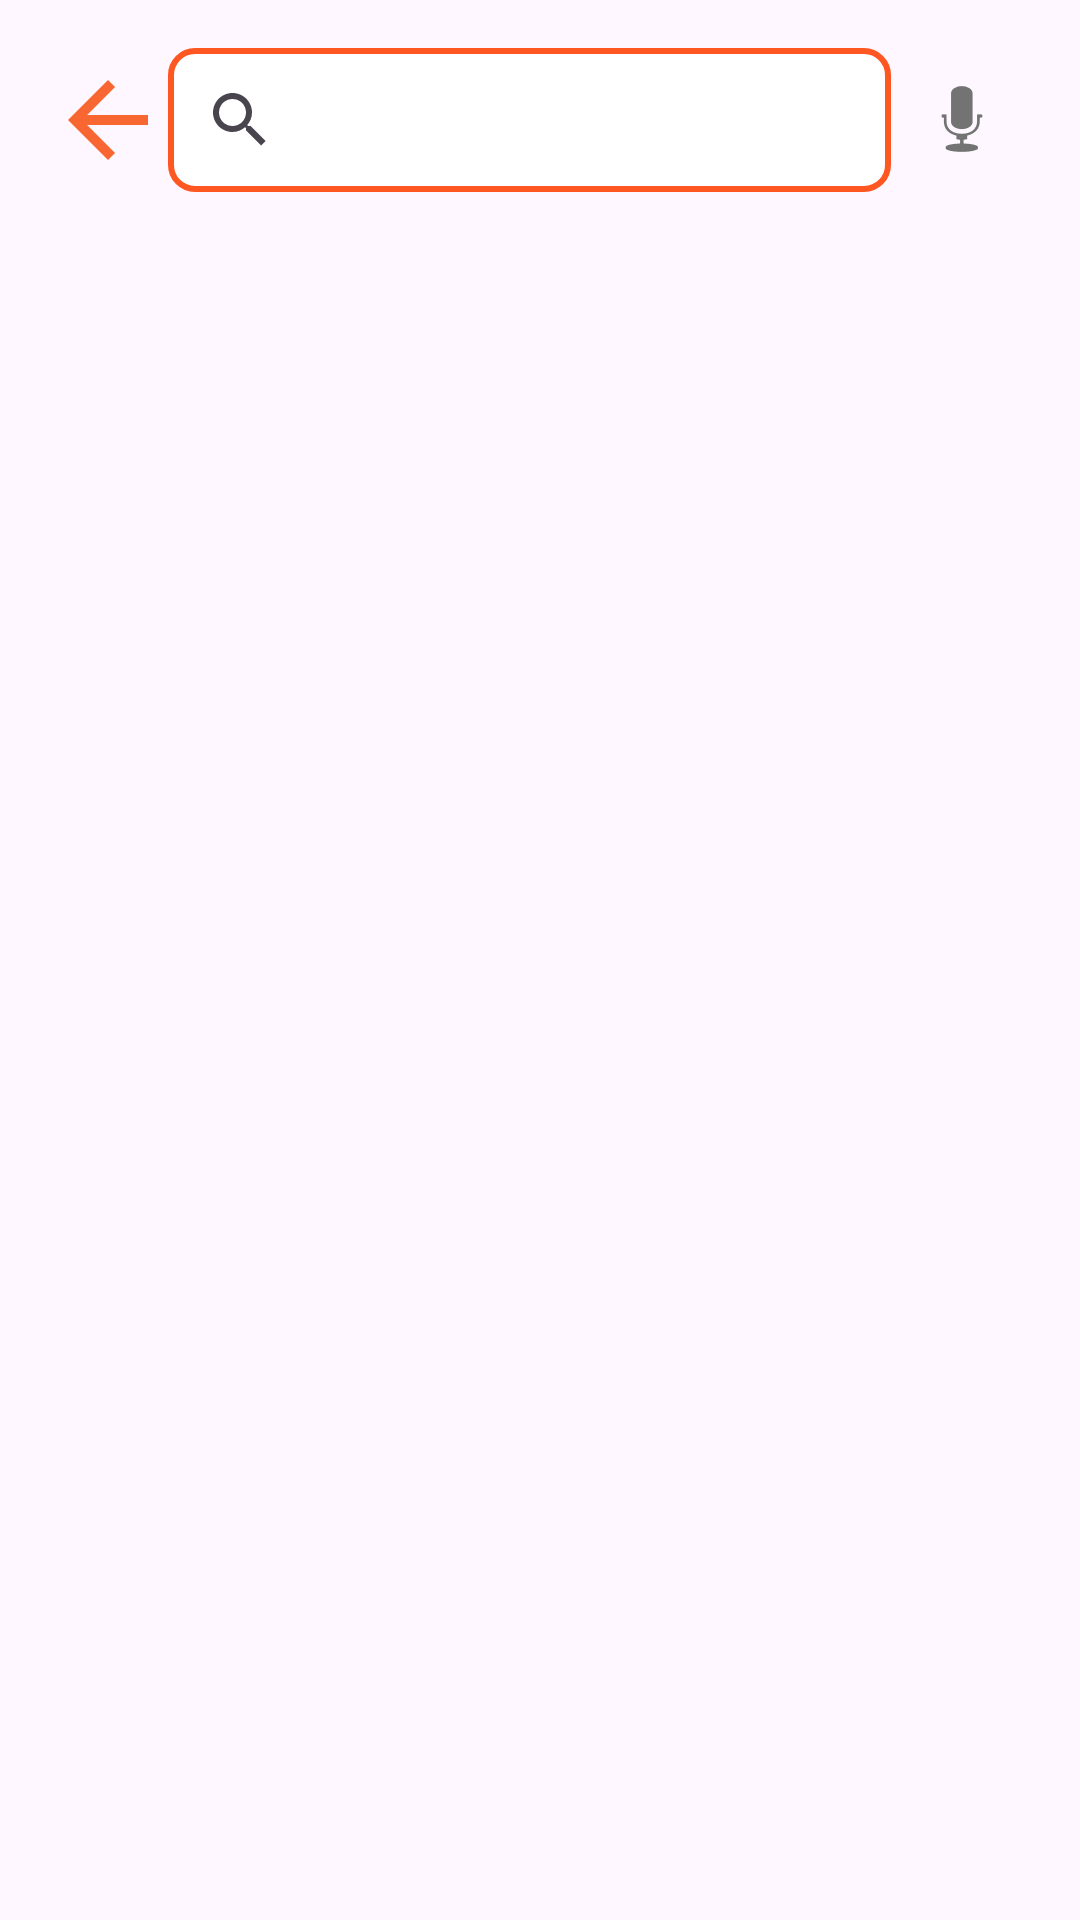

Icons on this 1080x1920 Android screen, each with the point to tap as (x,y):
back: (108,120)
speak now: (962,119)
